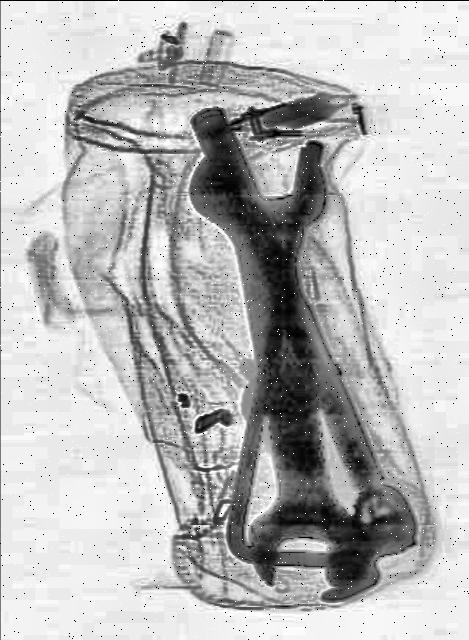Wrench: (181, 125, 383, 608)
